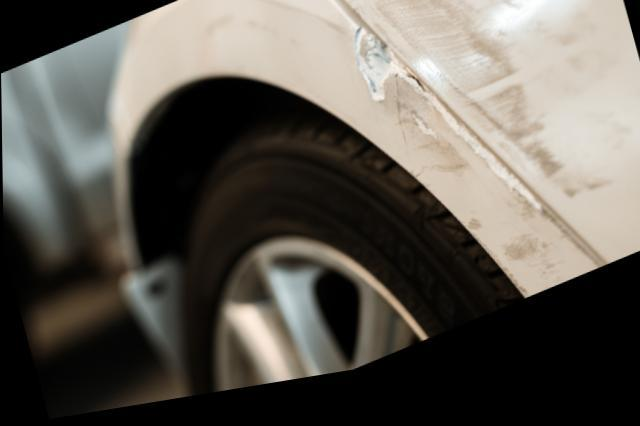scratch: (329, 23, 603, 316), (352, 0, 628, 218)
